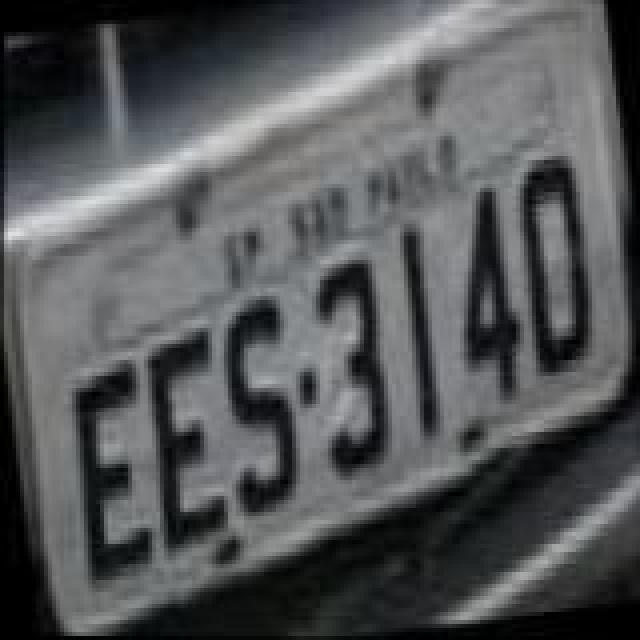1: (388, 224, 448, 448)
3: (302, 250, 406, 482)
4: (438, 180, 534, 412)
E: (58, 356, 166, 588), (130, 320, 238, 552)
O: (504, 148, 604, 380)
S: (204, 288, 308, 520)
